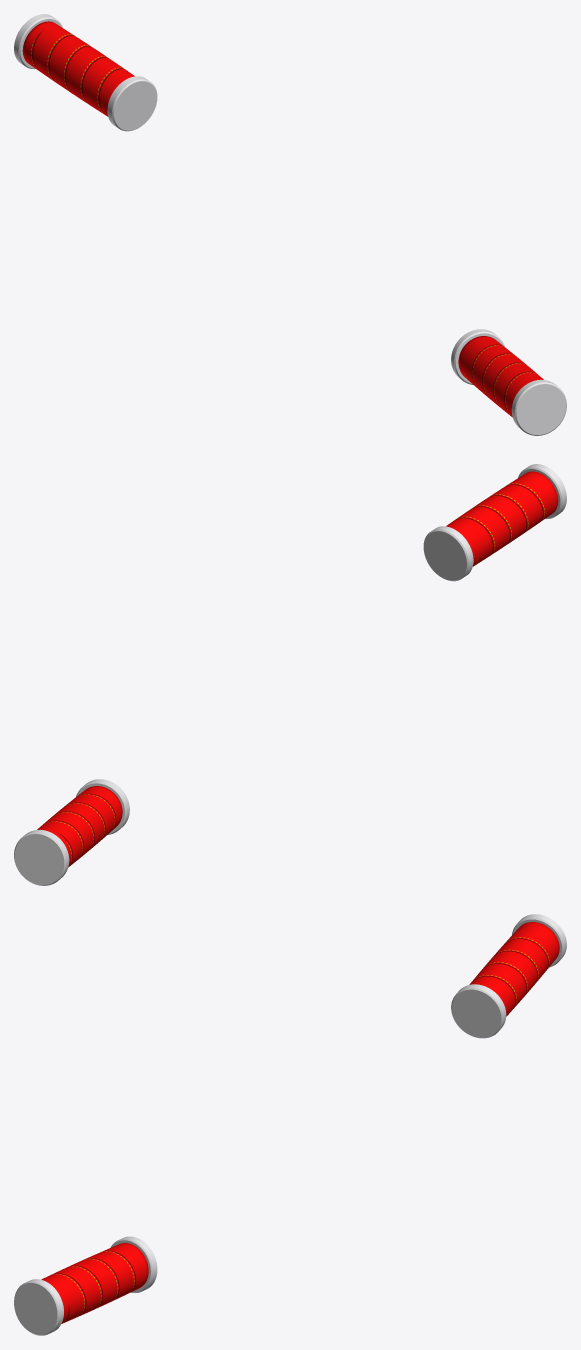
File: leather.glb
3 views of the same model, one above another, from view 1: azimuth 30°, elevation 25°; view 2: azimuth 150°, elevation 25°; view 3: azimuth 330°, elevation 25° (orthographic).
Parts seen in each view (by area): view 1: grip_leather; view 2: grip_leather; view 3: grip_leather.
Boxes of the visible parts, bbox=[...] form: grip_leather: bbox=[14, 14, 566, 435]; grip_leather: bbox=[14, 464, 566, 885]; grip_leather: bbox=[14, 914, 566, 1335].
Size of the model in its own units: 0.0578 by 0.0515 by 0.7725.
Materials: 2 (1 with a texture image).
